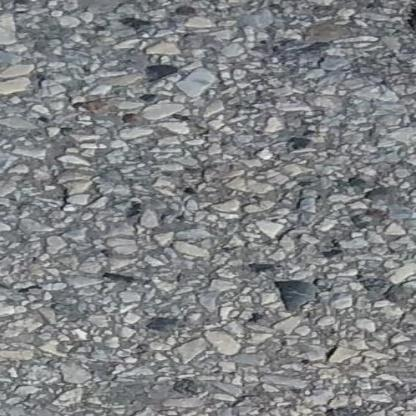Cracks: (405, 0, 416, 58)
